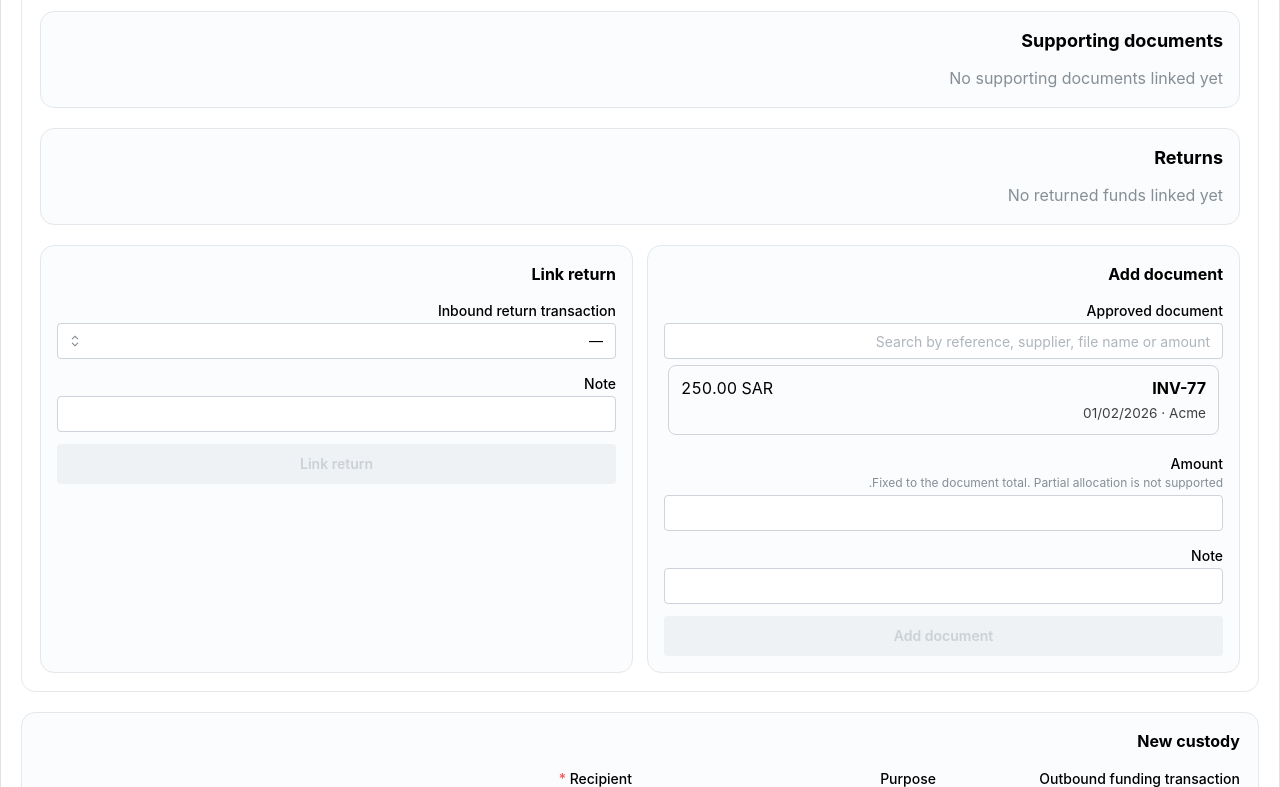
CustodyPanel document allocation › shows an actionable localized message when the document period is closed and keeps the selection
(page scrolled)
Click the button "INV-77 Acme · 01/02/2026 250.00 SAR" at (1179, 388), box [668,365,1219,435]
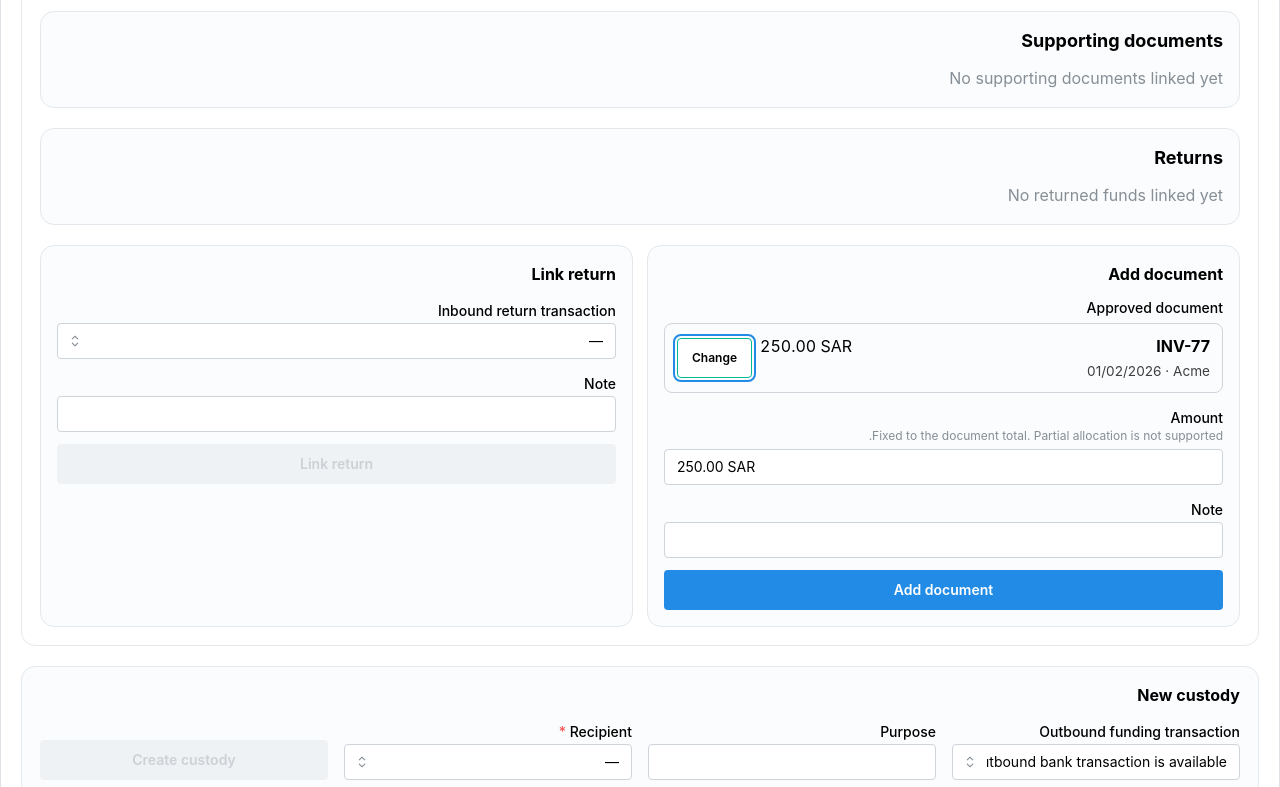
Result: the button "Change" is shown at [677,338,752,378]
Click the button "Add document" at (944, 590), box [664,570,1223,610]
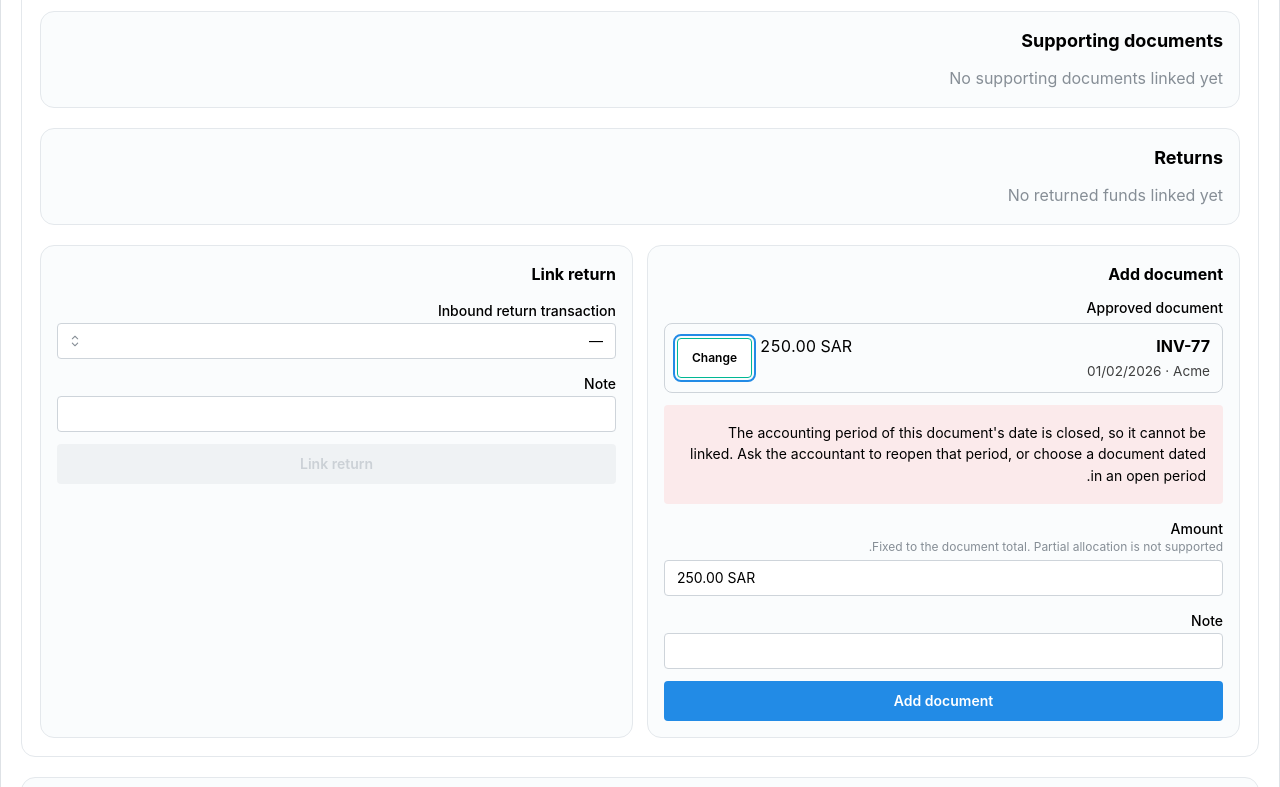
Result: the button "Change" is shown at [677,338,752,378]
Result: the message shows "accounting period of this document's date is closed" at [690,424,1206,484]
Result: the message shows "reopen" at [690,424,1206,484]
